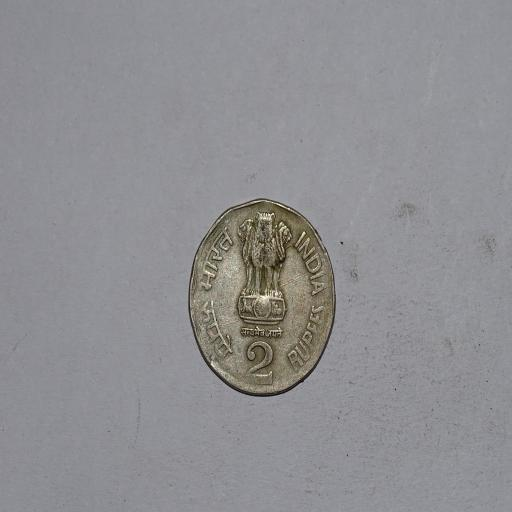rupee2: (184, 200, 338, 403)
